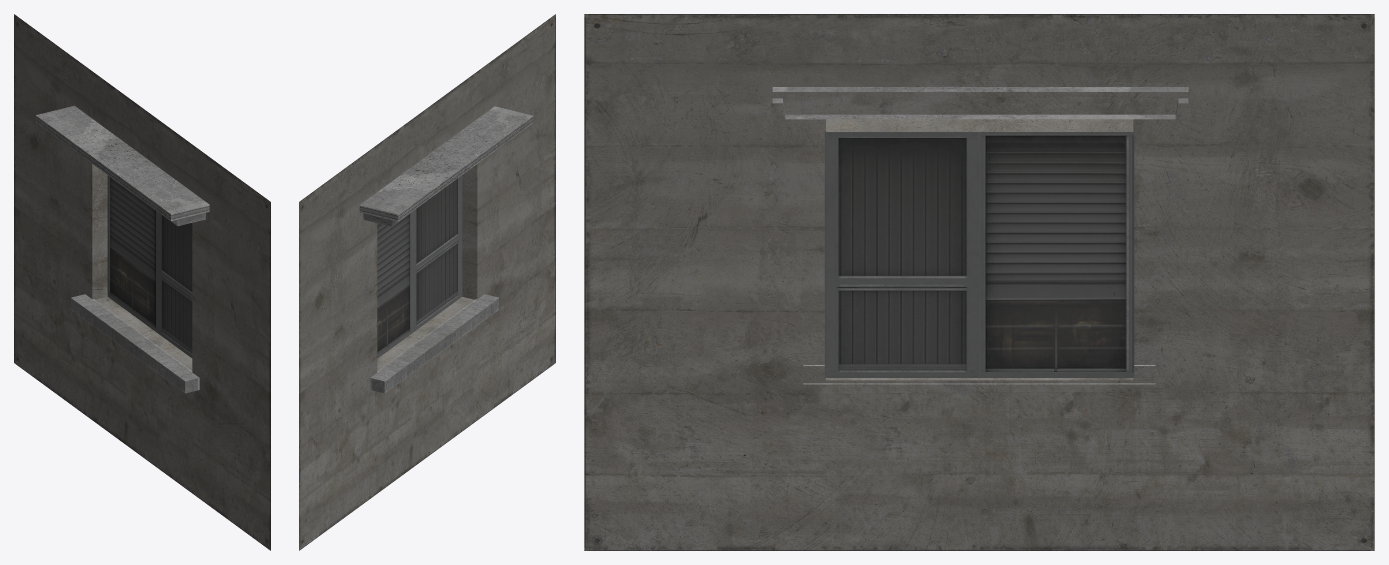
File: CP_Windows_C_4x3m_07.fbx
3 views of the same model, side by side, from view 1: azimuth 30°, elevation 25°; view 2: azimuth 150°, elevation 25°; view 3: azimuth 270°, elevation 25° (orthographic). The views are drawn at different scales.
Parts seen in each view (by area): view 1: CP_Windows_C_4x3m_07; view 2: CP_Windows_C_4x3m_07; view 3: CP_Windows_C_4x3m_07.
Part boxes in pixels (x1=…): CP_Windows_C_4x3m_07: x1=14, y1=14, x2=270, y2=550; CP_Windows_C_4x3m_07: x1=299, y1=14, x2=555, y2=550; CP_Windows_C_4x3m_07: x1=584, y1=14, x2=1374, y2=550.
Size of the model in its own units: 51.6 by 300 by 400.
